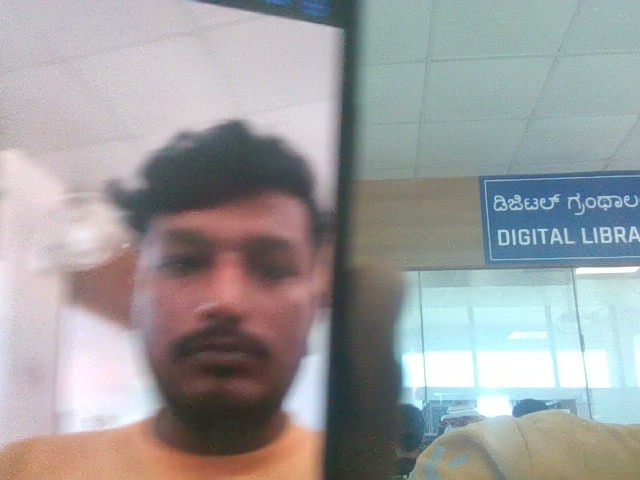fake: (102, 95, 345, 440)
